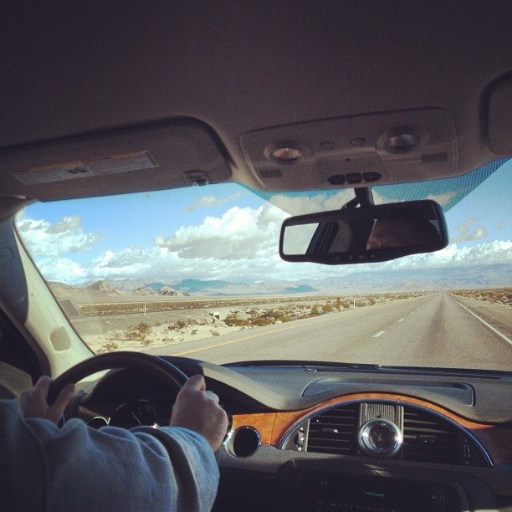hand: (172, 389, 229, 457), (15, 373, 76, 423)
